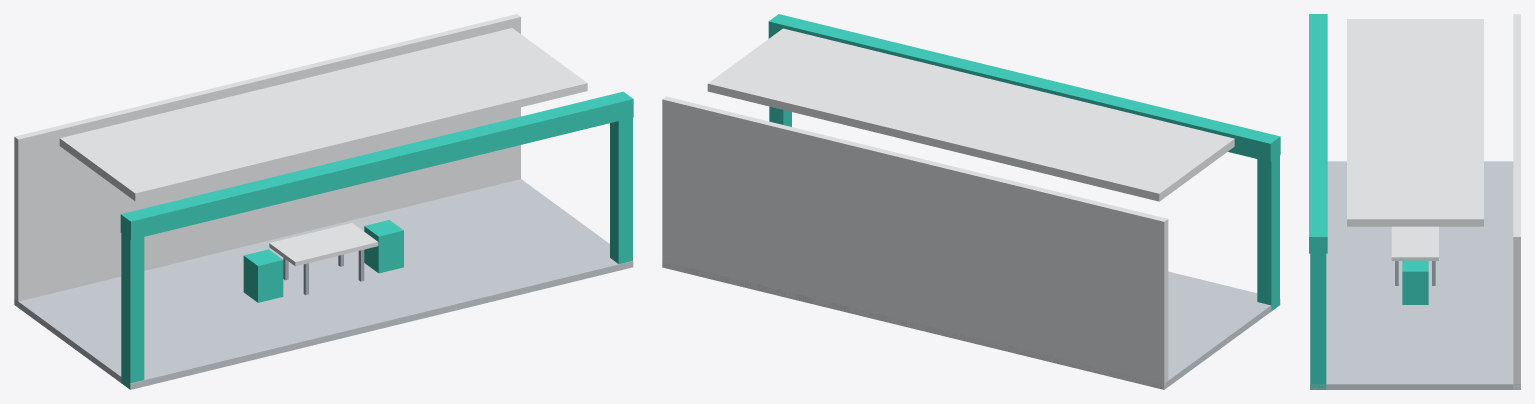
The picture shows the model from 3 angles, left to right: view 1: azimuth 30°, elevation 25°; view 2: azimuth 150°, elevation 25°; view 3: azimuth 270°, elevation 25°; orthographic projection. The views are drawn at different scales.
Parts seen in each view (by area): view 1: Exhibition Booth Concept; view 2: Exhibition Booth Concept; view 3: Exhibition Booth Concept.
Part boxes in pixels (x1,y1,x2,y2): Exhibition Booth Concept: [14, 14, 633, 389]; Exhibition Booth Concept: [662, 14, 1280, 389]; Exhibition Booth Concept: [1309, 14, 1520, 389].
Bounding box in the file's own units: 10 × 3.34 × 4.02.
